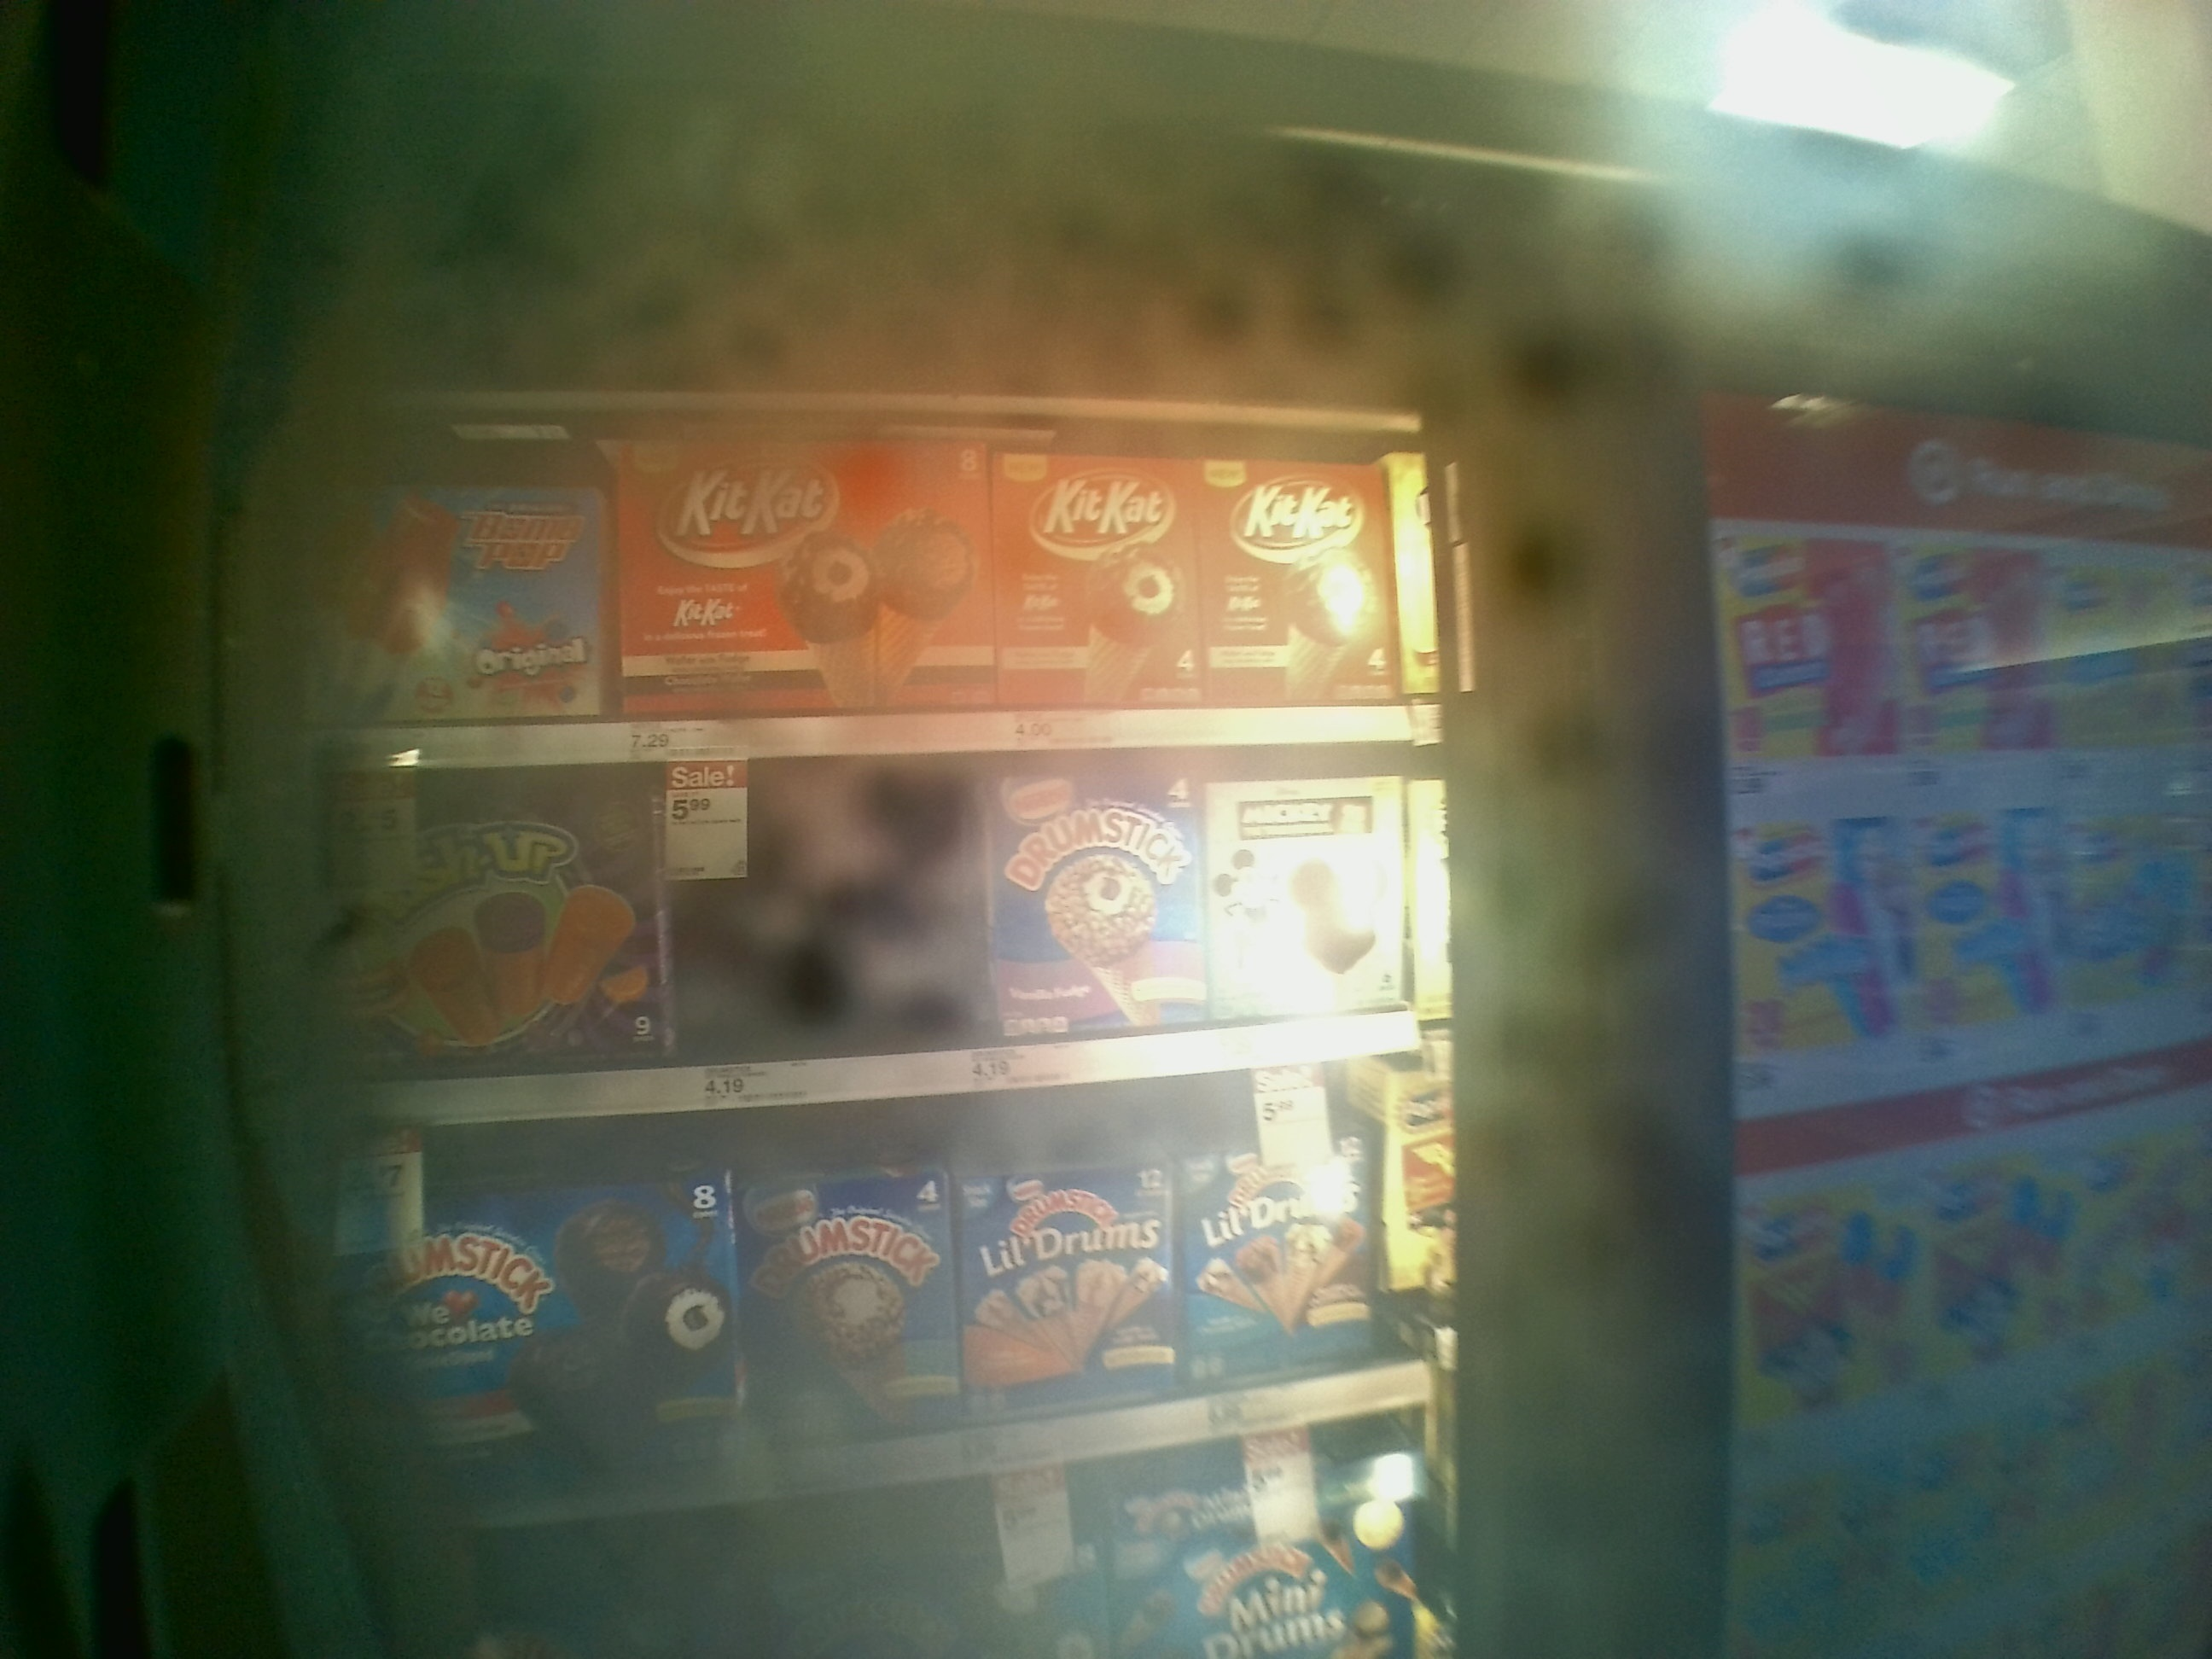shelf: (263, 739, 1458, 1145), (273, 408, 1444, 767)
